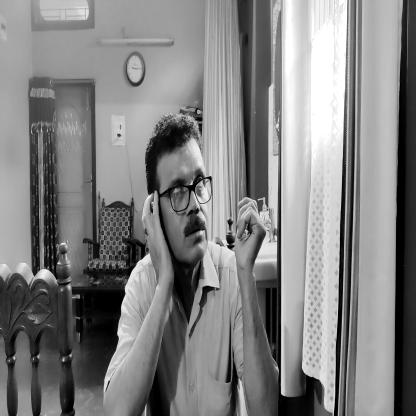Distracted: (147, 112, 214, 278)
